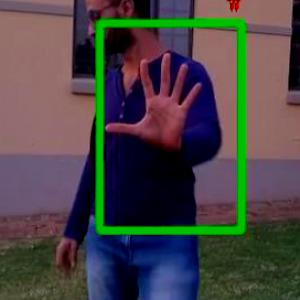follow_hand: (101, 45, 212, 156)
